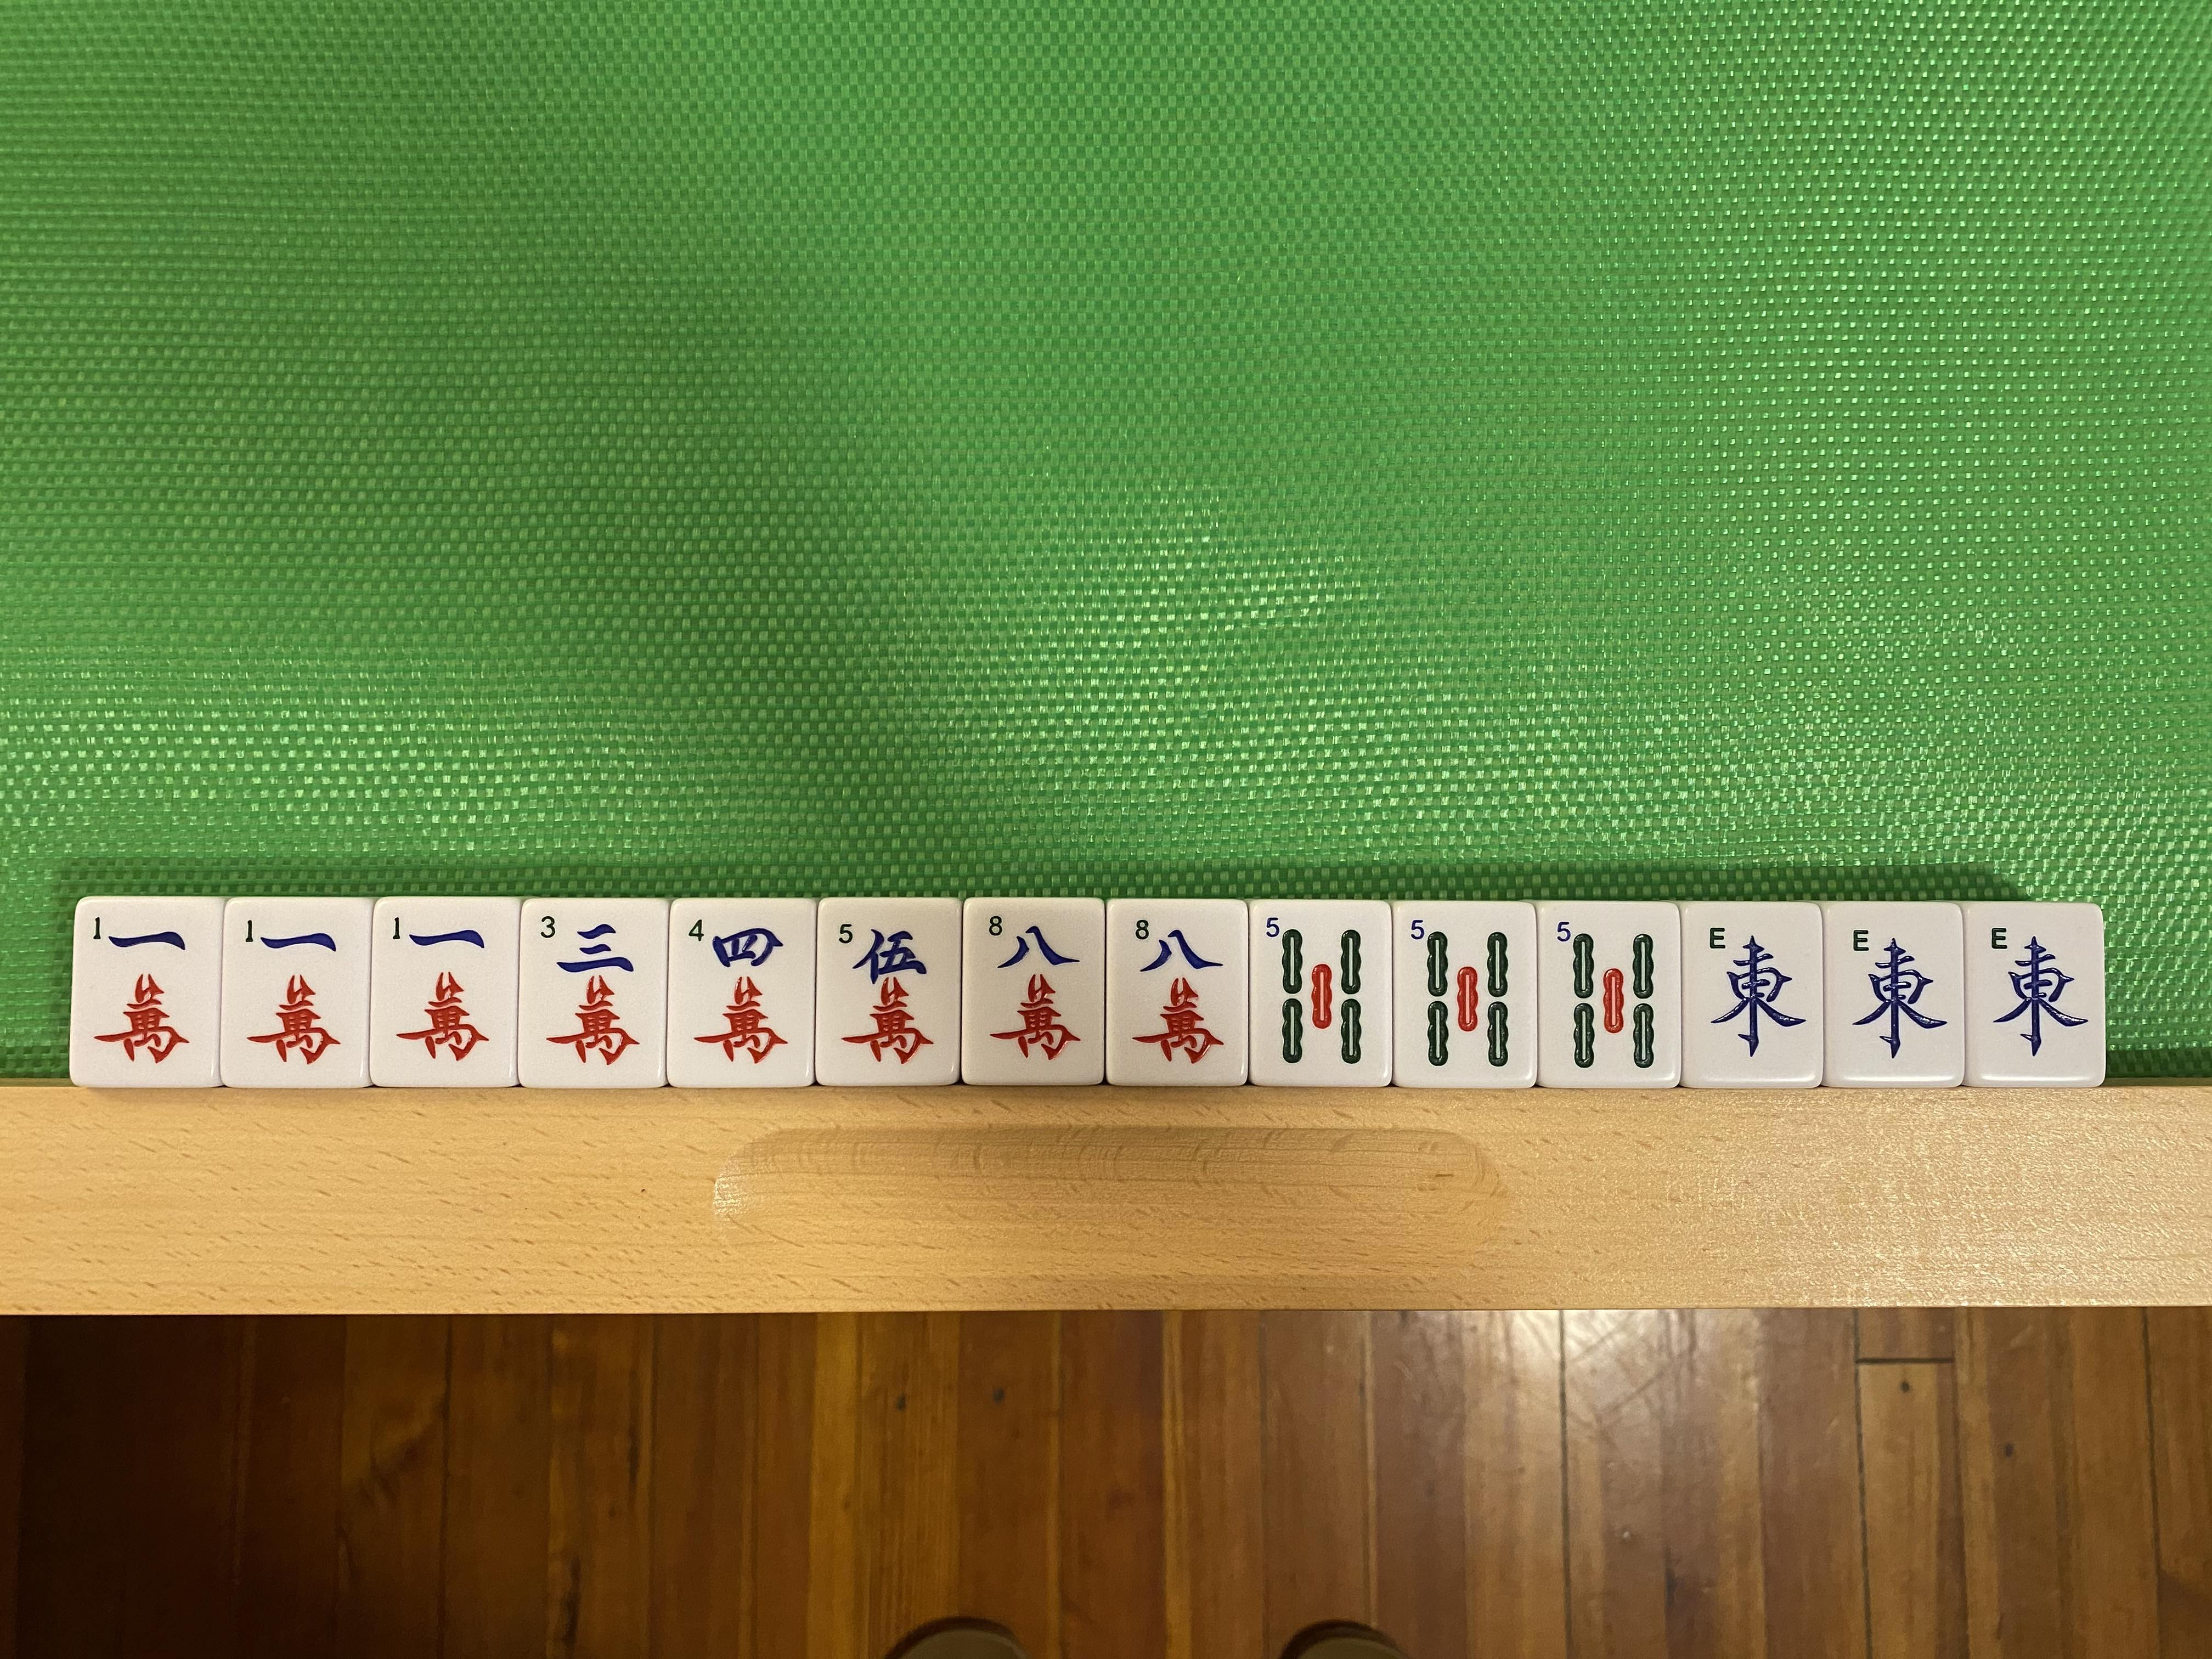bamboo-five: (1545, 911, 1670, 1079), (1402, 911, 1527, 1079), (1258, 908, 1378, 1079)
character-eight: (1113, 904, 1240, 1079), (970, 903, 1096, 1077)
character-five: (822, 903, 948, 1079)
character-four: (674, 906, 805, 1082)
character-one: (380, 908, 507, 1079), (80, 906, 206, 1077), (233, 906, 352, 1075)
character-three: (529, 908, 658, 1082)
honor-east_wind: (1693, 911, 1811, 1079), (1831, 913, 1949, 1079), (1975, 913, 2095, 1073)
